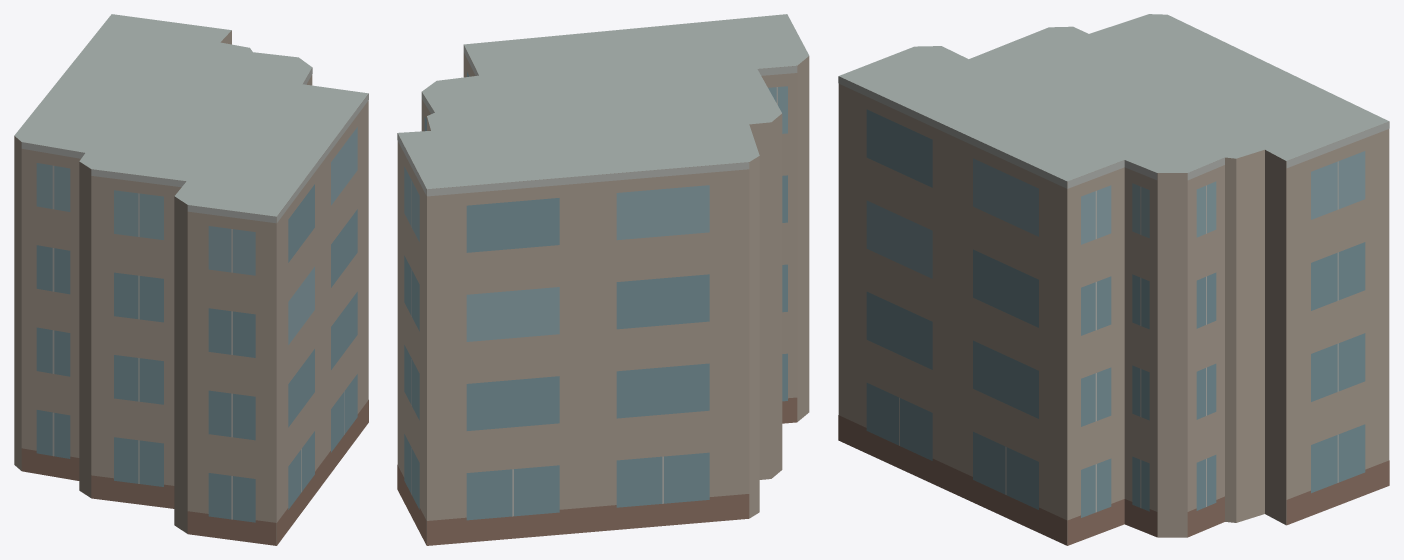
File: survey-upis-32618977.glb
3 views of the same model, side by side, from view 1: azimuth 30°, elevation 25°; view 2: azimuth 150°, elevation 25°; view 3: azimuth 270°, elevation 25° (orthographic). The views are drawn at different scales.
Parts seen in each view (by area): view 1: survey-upis-32618977.tmp; view 2: survey-upis-32618977.tmp; view 3: survey-upis-32618977.tmp.
Part boxes in pixels (x1,y1,x2,y2): survey-upis-32618977.tmp: (14, 14, 368, 545); survey-upis-32618977.tmp: (397, 14, 809, 545); survey-upis-32618977.tmp: (838, 14, 1389, 545).
Bounding box in the file's own units: 11.84 × 12 × 16.45.
